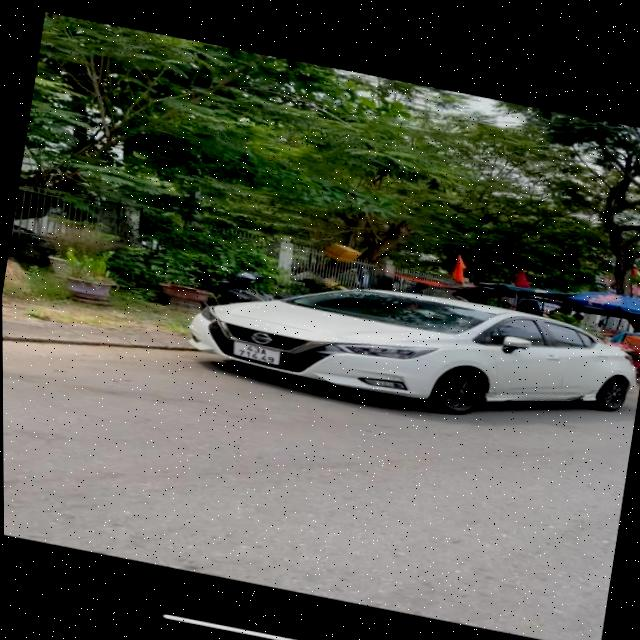car: (190, 237, 634, 458)
plate: (228, 337, 286, 372)
